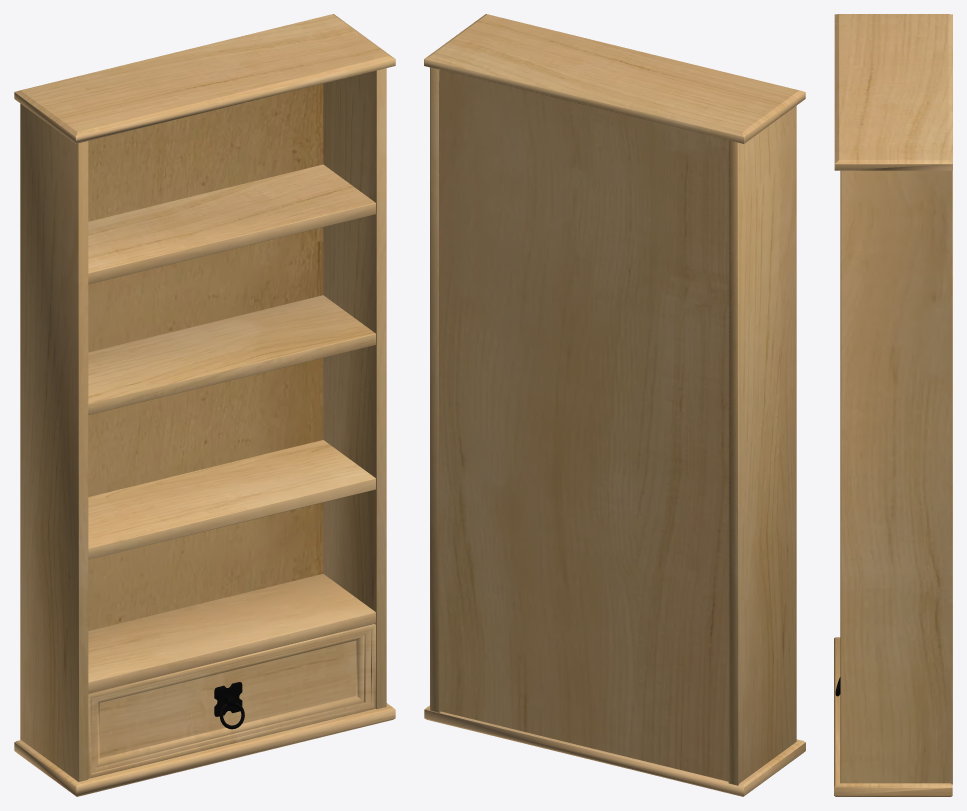
File: B00I0VTOO4.glb
The picture shows the model from 3 angles, left to right: view 1: azimuth 30°, elevation 25°; view 2: azimuth 150°, elevation 25°; view 3: azimuth 270°, elevation 25°; orthographic projection. The views are drawn at different scales.
Visible parts, largest first — view 1: B00I0VTOO4; view 2: B00I0VTOO4; view 3: B00I0VTOO4.
Boxes of the visible parts, x1,y1,x2,y2 form: B00I0VTOO4: (14, 14, 395, 796); B00I0VTOO4: (424, 14, 805, 796); B00I0VTOO4: (834, 14, 952, 796).
Bounding box in the file's own units: 0.5199 × 1.03 × 0.1745.
1 material, 1 textured.
